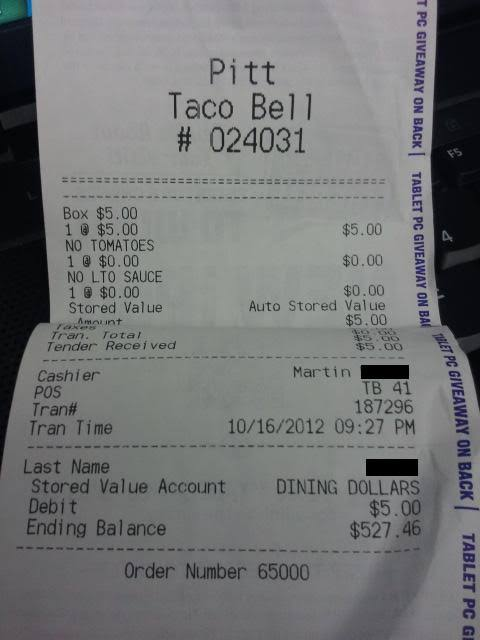Taco Bell: (162, 86, 324, 125)
